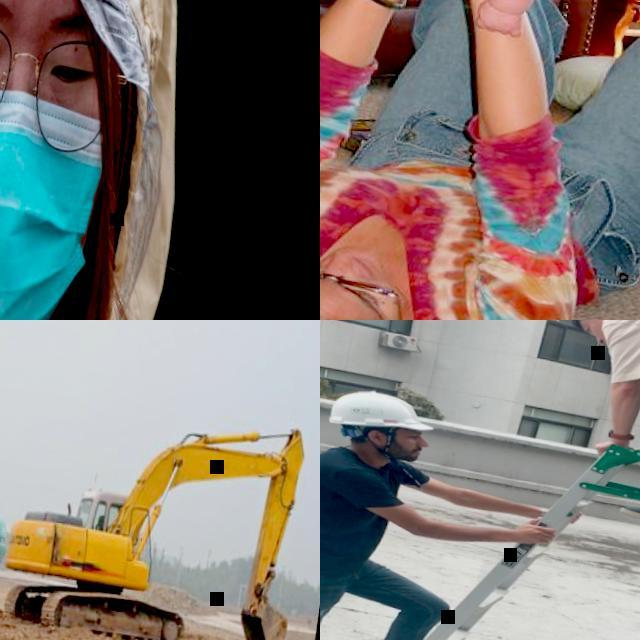helmet: (328, 387, 441, 438)
machinery: (1, 367, 320, 640)
mask: (0, 75, 117, 320)
no_mask: (320, 238, 395, 274), (378, 438, 424, 464), (592, 331, 610, 346)
no_vest: (320, 140, 489, 286), (320, 439, 407, 573)
person: (320, 0, 640, 320), (0, 0, 284, 320), (320, 377, 596, 640), (544, 320, 640, 549), (96, 516, 106, 533)
